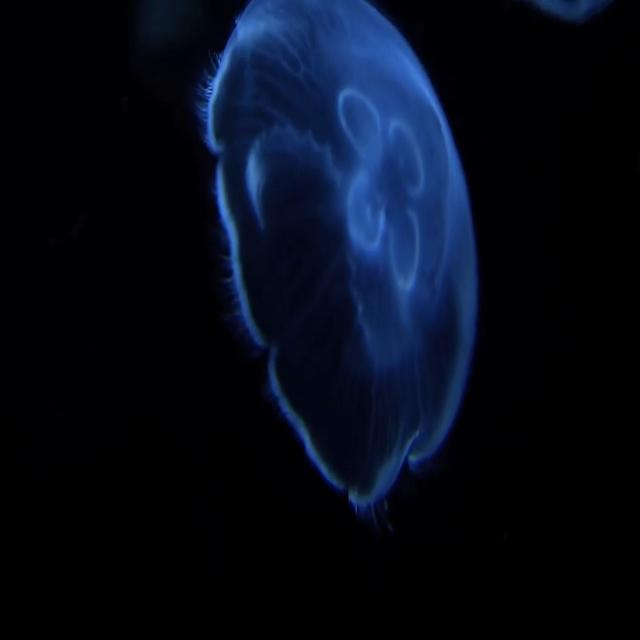Moon-jellyfish: (194, 0, 482, 543)
